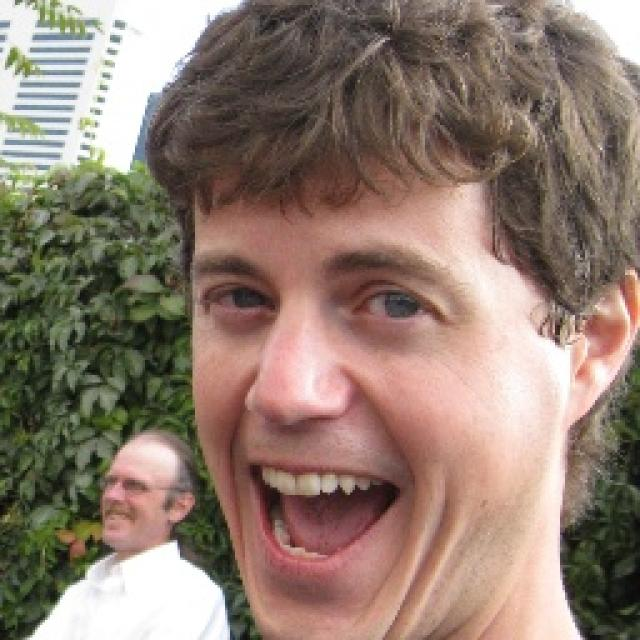earlobe: (565, 265, 640, 423)
